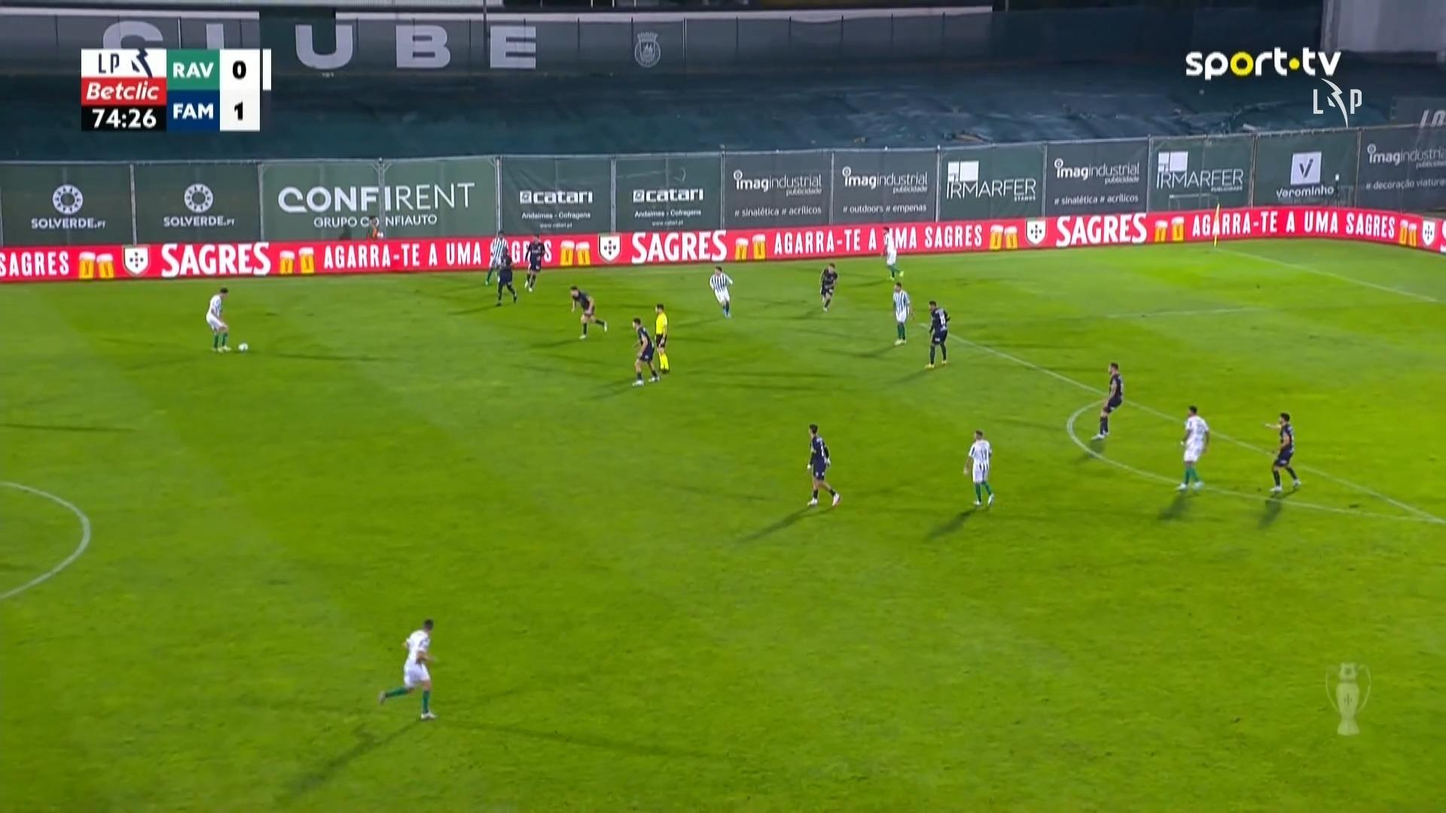ball: (237, 343, 248, 351)
player: (377, 618, 438, 720), (1264, 411, 1301, 494), (805, 422, 840, 507), (1176, 403, 1209, 491), (962, 428, 994, 508), (1091, 361, 1123, 440), (569, 284, 607, 340), (630, 316, 659, 385), (924, 300, 950, 368), (205, 286, 231, 352), (891, 282, 913, 346), (484, 228, 508, 286), (523, 233, 546, 292), (709, 265, 733, 318), (493, 254, 517, 306), (880, 227, 901, 281), (819, 261, 837, 312)
referee: (651, 303, 670, 373), (364, 215, 383, 239)
